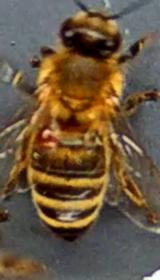varroa_mite: (32, 118, 80, 158)
